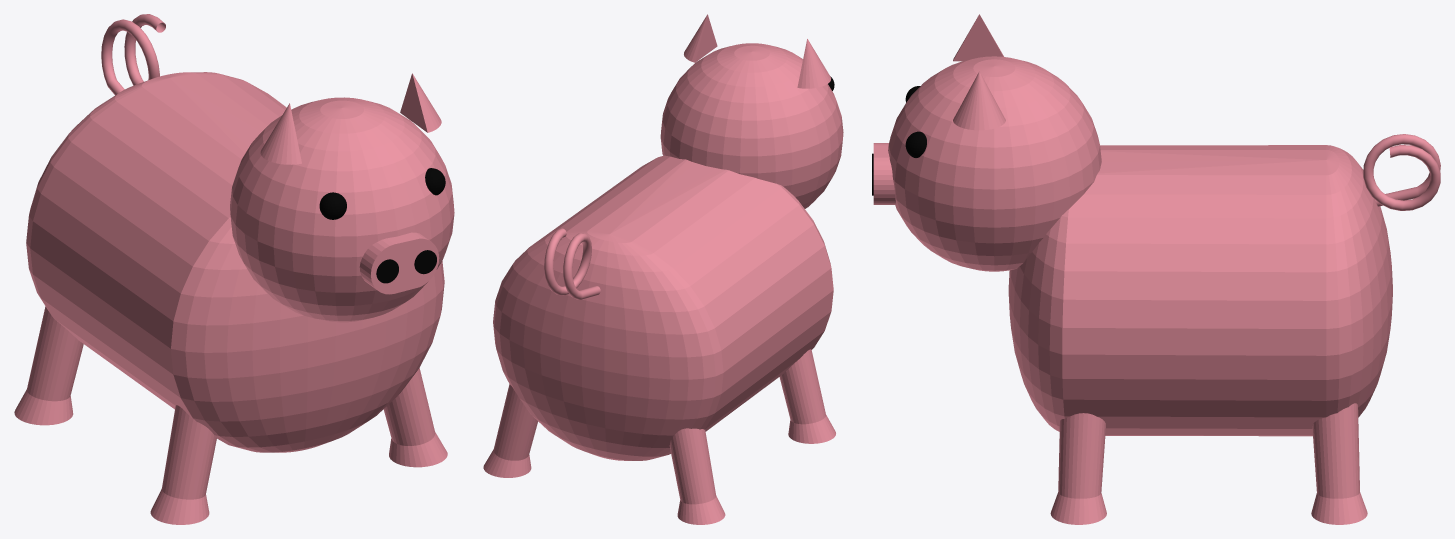
Rendered from pig (1).fbx.
The picture shows the model from 3 angles, left to right: view 1: azimuth 30°, elevation 25°; view 2: azimuth 150°, elevation 25°; view 3: azimuth 270°, elevation 25°; orthographic projection. The views are drawn at different scales.
Visible parts, largest first — view 1: Cylinder.002; view 2: Cylinder.002; view 3: Cylinder.002.
Boxes of the visible parts, x1,y1,x2,y2 form: Cylinder.002: (14,14,454,524); Cylinder.002: (483,14,843,524); Cylinder.002: (872,14,1440,524).
Bounding box in the file's own units: 78.84 × 113 × 140.
